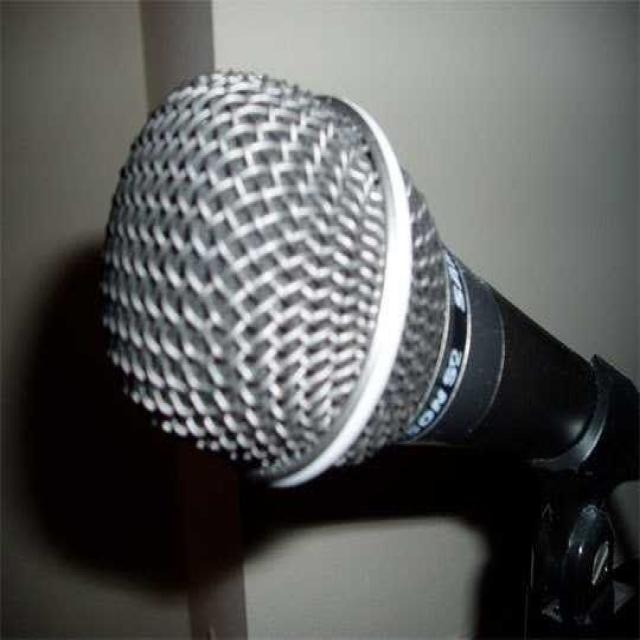microphone: (110, 76, 615, 490)
